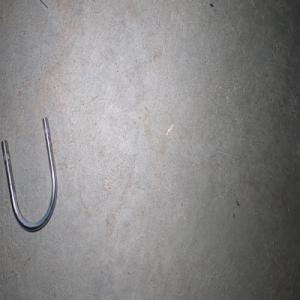ClampPart: (0, 116, 57, 233)
